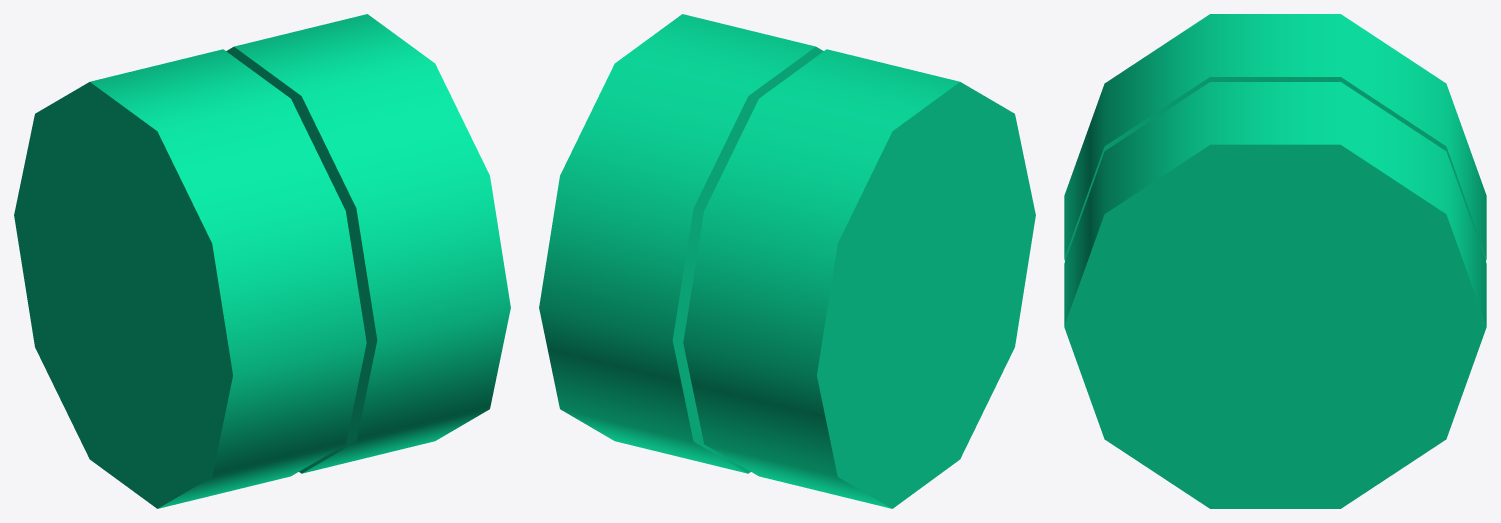
Rendered from Truck_Wheel_02_Lod1.fbx.
3 views of the same model, side by side, from view 1: azimuth 30°, elevation 25°; view 2: azimuth 150°, elevation 25°; view 3: azimuth 270°, elevation 25° (orthographic). The views are drawn at different scales.
Parts seen in each view (by area): view 1: Truck_Wheel_02_Lod1; view 2: Truck_Wheel_02_Lod1; view 3: Truck_Wheel_02_Lod1.
Boxes of the visible parts, x1=… form: Truck_Wheel_02_Lod1: x1=14, y1=14, x2=510, y2=508; Truck_Wheel_02_Lod1: x1=539, y1=14, x2=1035, y2=508; Truck_Wheel_02_Lod1: x1=1064, y1=14, x2=1486, y2=508.
Size of the model in its own units: 86.09 by 112 by 118.
